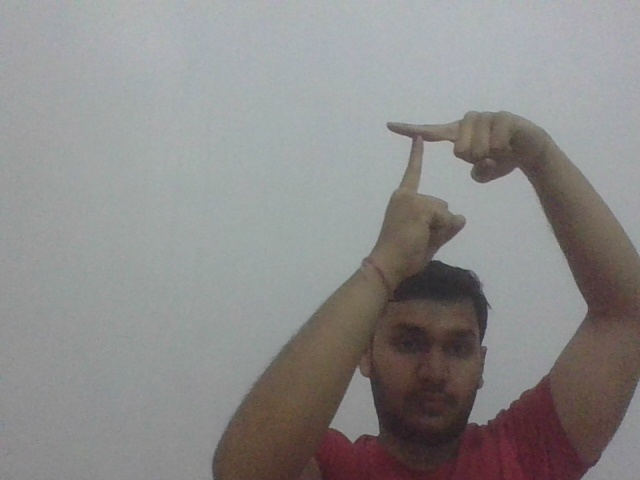T: (384, 113, 450, 189)
